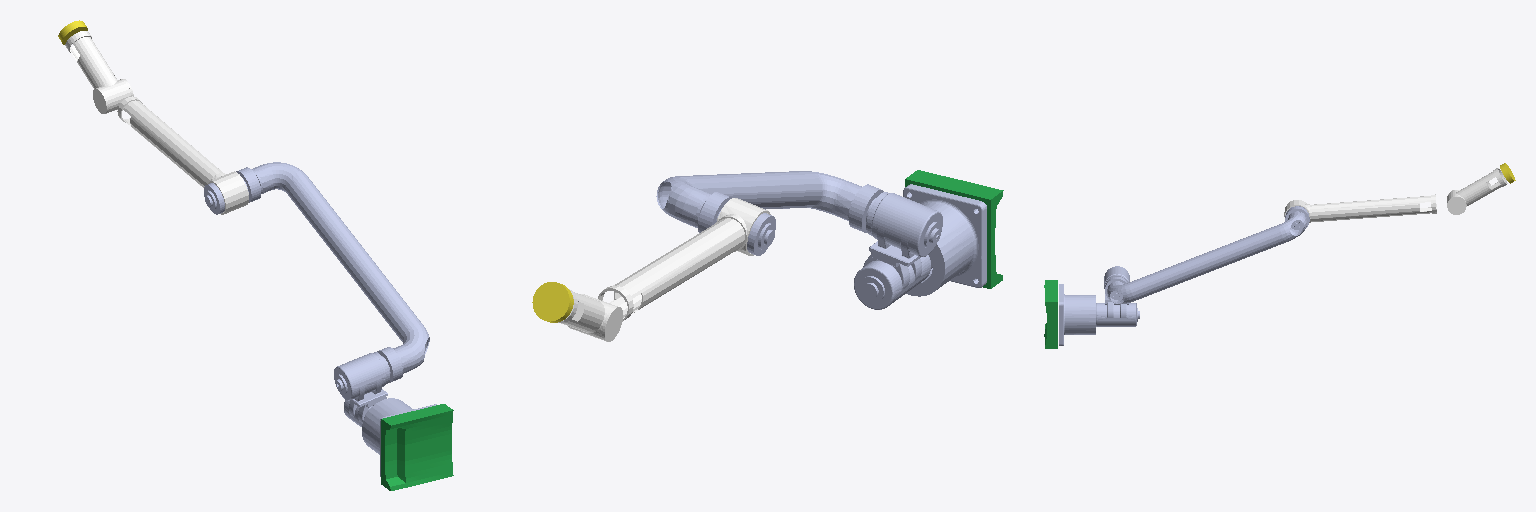
robot.urdf — station__starlink_sldasm9:
<?xml version='1.0' encoding='utf-8'?>
<robot name="station__starlink_sldasm9">
  <link name="base_link">
    <visual>
      <geometry>
        <mesh filename="../satellites/station/satellite.stl" />
      </geometry>
      <material name="satellite_grey">
        <color rgba=".6 .7 .8 1" />
      </material>
    </visual>
    <collision>
      <geometry>
        <mesh filename="../satellites/station/satellite.stl" />
      </geometry>
    </collision>
  </link>
  <link name="station_mount" />
  <joint name="satellite_mount_fixed" type="fixed">
    <parent link="base_link" />
    <child link="station_mount" />
    <origin xyz="-1.2 0.6066343669416991 0.0" rpy="-1.5707963267948966 -1.5707963267948966 0.0" />
  </joint>
  <link name="mount_support">
    <visual>
      <geometry>
        <mesh filename="../satellites/station/mount_support.stl" />
      </geometry>
      <material name="mount_green">
        <color rgba=".2 .7 .35 1" />
      </material>
    </visual>
    <collision>
      <geometry>
        <mesh filename="../satellites/station/mount_support.stl" />
      </geometry>
    </collision>
  </link>
  <joint name="support_fixed" type="fixed">
    <parent link="station_mount" />
    <child link="mount_support" />
    <origin xyz="0 0 0" rpy="0 0 0" />
  </joint>
  <joint name="arm_adapter_fixed" type="fixed">
    <parent link="station_mount" />
    <child link="starlink_space_manipulator_base_link" />
    <origin xyz="-0.008519247174263014 0.009087204933166518 0.15000000141561026" rpy="-1.5707963267948966 0 1.5707963267948966" />
  </joint>
  <link name="starlink_space_manipulator_base_link">
    <inertial>
      <origin xyz="-0.00908719924946466 0.0225428225681148 -0.00851924929637313" rpy="0 0 0" />
      <mass value="8.66024015898073" />
      <inertia ixx="0.0960303512697639" ixy="1.65511904636803E-18" ixz="6.22039820639877E-19" iyy="0.103454922260914" iyz="-9.68471289978311E-19" izz="0.0960303512697639" />
    </inertial>
    <visual>
      <origin xyz="0 0 0" rpy="0 0 0" />
      <geometry>
        <mesh filename="../arms/starlink_sldasm9/meshes/starlink_space_manipulator_base_link.STL" />
      </geometry>
      <material name="">
        <color rgba="0.792156862745098 0.819607843137255 0.933333333333333 1" />
      </material>
    </visual>
    <collision>
      <origin xyz="0 0 0" rpy="0 0 0" />
      <geometry>
        <mesh filename="../arms/starlink_sldasm9/meshes/starlink_space_manipulator_base_link.STL" />
      </geometry>
    </collision>
  </link>
  <link name="starlink_space_manipulator_Shoulder_link_1">
    <inertial>
      <origin xyz="-0.000399471745595769 -0.100006574194712 -0.17423940484461" rpy="0 0 0" />
      <mass value="5.16309216784981" />
      <inertia ixx="0.0524543852135592" ixy="0.00348154867667969" ixz="6.96526910910627E-05" iyy="0.0306595326318824" iyz="-0.00056674368052247" izz="0.0439979075615329" />
    </inertial>
    <visual>
      <origin xyz="0 0 0" rpy="0 0 0" />
      <geometry>
        <mesh filename="../arms/starlink_sldasm9/meshes/starlink_space_manipulator_Shoulder_link_1.STL" />
      </geometry>
      <material name="">
        <color rgba="0.792156862745098 0.819607843137255 0.933333333333333 1" />
      </material>
    </visual>
    <collision>
      <origin xyz="0 0 0" rpy="0 0 0" />
      <geometry>
        <mesh filename="../arms/starlink_sldasm9/meshes/starlink_space_manipulator_Shoulder_link_1.STL" />
      </geometry>
    </collision>
  </link>
  <joint name="starlink_space_manipulator_Shoulder_link_1_yaw" type="revolute">
    <origin xyz="-0.0090872 -0.065 -0.0085192" rpy="1.5708 -0.15574 3.1416" />
    <parent link="starlink_space_manipulator_base_link" />
    <child link="starlink_space_manipulator_Shoulder_link_1" />
    <axis xyz="0 0 -1" />
    <limit lower="-3.14" upper="3.14" effort="0" velocity="0" />
  </joint>
  <link name="starlink_space_manipulator_Upper_arm_Link_1">
    <inertial>
      <origin xyz="0.402106341472203 -0.696465272634528 -0.170177523085579" rpy="0 0 0" />
      <mass value="5.05309869040685" />
      <inertia ixx="0.388719013133801" ixy="0.210155896498943" ixz="9.30829370680679E-08" iyy="0.146049057575642" iyz="1.71830458004218E-07" izz="0.500677708275447" />
    </inertial>
    <visual>
      <origin xyz="0 0 0" rpy="0 0 0" />
      <geometry>
        <mesh filename="../arms/starlink_sldasm9/meshes/starlink_space_manipulator_Upper_arm_Link_1.STL" />
      </geometry>
      <material name="">
        <color rgba="0.792156862745098 0.819607843137255 0.933333333333333 1" />
      </material>
    </visual>
    <collision>
      <origin xyz="0 0 0" rpy="0 0 0" />
      <geometry>
        <mesh filename="../arms/starlink_sldasm9/meshes/starlink_space_manipulator_Upper_arm_Link_1.STL" />
      </geometry>
    </collision>
  </link>
  <joint name="starlink_space_manipulator_Upper_arm_Link_1_roll" type="revolute">
    <origin xyz="0 -0.2 -0.18" rpy="1.5708 0.90646 1.5708" />
    <parent link="starlink_space_manipulator_Shoulder_link_1" />
    <child link="starlink_space_manipulator_Upper_arm_Link_1" />
    <axis xyz="0 0 -1" />
    <limit lower="-2" upper="1.5" effort="0" velocity="0" />
  </joint>
  <link name="starlink_space_manipulator_Mid_arm_Link_1">
    <inertial>
      <origin xyz="-0.000406052776441013 0.317722269561105 0.0155331755135703" rpy="0 0 0" />
      <mass value="1.57635531881168" />
      <inertia ixx="0.133610363618846" ixy="5.33750993405138E-05" ixz="-3.60473795202962E-09" iyy="0.00502119434334708" iyz="-2.514275749911E-05" izz="0.134586018527477" />
    </inertial>
    <visual>
      <origin xyz="0 0 0" rpy="0 0 0" />
      <geometry>
        <mesh filename="../arms/starlink_sldasm9/meshes/starlink_space_manipulator_Mid_arm_Link_1.STL" />
      </geometry>
      <material name="">
        <color rgba="1 1 1 1" />
      </material>
    </visual>
    <collision>
      <origin xyz="0 0 0" rpy="0 0 0" />
      <geometry>
        <mesh filename="../arms/starlink_sldasm9/meshes/starlink_space_manipulator_Mid_arm_Link_1.STL" />
      </geometry>
    </collision>
  </link>
  <joint name="starlink_space_manipulator_Mid_arm_Link_1_roll" type="revolute">
    <origin xyz="0.599999999999673 -1.03923048454122 0" rpy="-3.14159265358979 0 0.828250280535091" />
    <parent link="starlink_space_manipulator_Upper_arm_Link_1" />
    <child link="starlink_space_manipulator_Mid_arm_Link_1" />
    <axis xyz="0 0 -1" />
    <limit lower="-3.14" upper="3.14" effort="0" velocity="0" />
  </joint>
  <link name="starlink_space_manipulator_Upper_wrist_Link_1">
    <inertial>
      <origin xyz="-0.000400003664721815 -0.201565878030355 -0.00216705855311664" rpy="0 0 0" />
      <mass value="0.994770641034713" />
      <inertia ixx="0.00165409639029414" ixy="-7.59103925411082E-06" ixz="-3.17403155320863E-06" iyy="0.00201437937768072" iyz="2.63246464091218E-06" izz="0.00159638838344539" />
    </inertial>
    <visual>
      <origin xyz="0 0 0" rpy="0 0 0" />
      <geometry>
        <mesh filename="../arms/starlink_sldasm9/meshes/starlink_space_manipulator_Upper_wrist_Link_1.STL" />
      </geometry>
      <material name="">
        <color rgba="0.792156862745098 0.819607843137255 0.933333333333333 1" />
      </material>
    </visual>
    <collision>
      <origin xyz="0 0 0" rpy="0 0 0" />
      <geometry>
        <mesh filename="../arms/starlink_sldasm9/meshes/starlink_space_manipulator_Upper_wrist_Link_1.STL" />
      </geometry>
    </collision>
  </link>
  <joint name="starlink_space_manipulator_Upper_wrist_Link_1_yaw" type="revolute">
    <origin xyz="-0.00050155183276912 0.686793643713439 0.0155010481432086" rpy="0 -0.0763876794035917 3.14159265358979" />
    <parent link="starlink_space_manipulator_Mid_arm_Link_1" />
    <child link="starlink_space_manipulator_Upper_wrist_Link_1" />
    <axis xyz="0 -1 0" />
    <limit lower="-3.14" upper="3.14" effort="0" velocity="0" />
  </joint>
  <link name="starlink_space_manipulator_Upper_wrist_Link_2">
    <inertial>
      <origin xyz="8.45304168883843E-08 0.0848318719623631 -0.00515657391755576" rpy="0 0 0" />
      <mass value="1.03716823037577" />
      <inertia ixx="0.0100970561498589" ixy="1.32295633551837E-09" ixz="-9.43675929999229E-09" iyy="0.00222325407426665" iyz="-2.08772874866187E-06" izz="0.0105840577017538" />
    </inertial>
    <visual>
      <origin xyz="0 0 0" rpy="0 0 0" />
      <geometry>
        <mesh filename="../arms/starlink_sldasm9/meshes/starlink_space_manipulator_Upper_wrist_Link_2.STL" />
      </geometry>
      <material name="">
        <color rgba="1 1 1 1" />
      </material>
    </visual>
    <collision>
      <origin xyz="0 0 0" rpy="0 0 0" />
      <geometry>
        <mesh filename="../arms/starlink_sldasm9/meshes/starlink_space_manipulator_Upper_wrist_Link_2.STL" />
      </geometry>
    </collision>
  </link>
  <joint name="starlink_space_manipulator_Upper_wrist_Link_2_roll" type="revolute">
    <origin xyz="0 -0.30020635628656 0" rpy="-0.0158640776811277 -0.0317448426184613 -2.67805461574742" />
    <parent link="starlink_space_manipulator_Upper_wrist_Link_1" />
    <child link="starlink_space_manipulator_Upper_wrist_Link_2" />
    <axis xyz="0 0 1" />
    <limit lower="-2.5" upper="1.8" effort="0" velocity="0" />
  </joint>
  <link name="starlink__space_manipulator_2F-Body_Link">
    </link>
  <joint name="starlink__space_manipulator_2F-Body_Link_yaw" type="revolute">
    <origin xyz="0 0.34845 -0.0053813" rpy="-3.1416 0.93592 0" />
    <parent link="starlink_space_manipulator_Upper_wrist_Link_2" />
    <child link="starlink__space_manipulator_2F-Body_Link" />
    <axis xyz="0 -1 0" />
    <limit lower="-3.14" upper="3.14" effort="0" velocity="0" />
  </joint>
  <link name="angular_hand">
    <visual>
      <geometry>
        <mesh filename="../arms/starlink_sldasm9/meshes/hand_2finger.STL" scale="2 2 2" />
      </geometry>
    </visual>
    <collision>
      <geometry>
        <mesh filename="../arms/starlink_sldasm9/meshes/hand_2finger.STL" scale="2 2 2" />
      </geometry>
    </collision>
  </link>
  <joint name="angular_hand_fixed" type="fixed">
    <parent link="starlink__space_manipulator_2F-Body_Link" />
    <child link="angular_hand" />
    <origin xyz="0 -0.036 0" rpy="-1.5707963267948966 0 0" />
  </joint>
  <link name="angular_adapter">
    <visual>
      <geometry>
        <mesh filename="../arms/starlink_sldasm9/meshes/angular_adapter.stl" />
      </geometry>
    </visual>
    <collision>
      <geometry>
        <mesh filename="../arms/starlink_sldasm9/meshes/angular_adapter.stl" />
      </geometry>
    </collision>
  </link>
  <joint name="angular_adapter_fixed" type="fixed">
    <parent link="starlink__space_manipulator_2F-Body_Link" />
    <child link="angular_adapter" />
    <origin xyz="0 -0.0005 0" rpy="1.5707963267948966 0 0" />
  </joint>
  <link name="angular_finger_1">
    <visual>
      <geometry>
        <mesh filename="../arms/starlink_sldasm9/meshes/finger_proximal.STL" scale="2 2 2" />
      </geometry>
    </visual>
    <collision>
      <geometry>
        <mesh filename="../arms/starlink_sldasm9/meshes/finger_proximal.STL" scale="2 2 2" />
      </geometry>
    </collision>
  </link>
  <link name="angular_tip_1">
    <visual>
      <geometry>
        <mesh filename="../arms/starlink_sldasm9/meshes/finger_distal.STL" scale="2 2 2" />
      </geometry>
    </visual>
    <collision>
      <geometry>
        <mesh filename="../arms/starlink_sldasm9/meshes/finger_distal.STL" scale="2 2 2" />
      </geometry>
    </collision>
  </link>
  <joint name="angular_joint_1" type="revolute">
    <parent link="angular_hand" />
    <child link="angular_finger_1" />
    <axis xyz="0 0 1" />
    <origin xyz="-0.005 0.0619 -0.22964" rpy="-1.570796327 .649262481663582 1.5707963267948966" />
    <limit lower="0" upper="1.51" effort="2" velocity="1" />
  </joint>
  <joint name="angular_joint_tip_1" type="revolute">
    <parent link="angular_finger_1" />
    <child link="angular_tip_1" />
    <axis xyz="0 0 1" />
    <origin xyz="0.088 -0.006 0.0" rpy="0 0 0" />
    <limit lower="0" upper="2" effort="2" velocity="1" />
  </joint>
  <link name="angular_finger_2">
    <visual>
      <geometry>
        <mesh filename="../arms/starlink_sldasm9/meshes/finger_proximal.STL" scale="2 2 2" />
      </geometry>
    </visual>
    <collision>
      <geometry>
        <mesh filename="../arms/starlink_sldasm9/meshes/finger_proximal.STL" scale="2 2 2" />
      </geometry>
    </collision>
  </link>
  <link name="angular_tip_2">
    <visual>
      <geometry>
        <mesh filename="../arms/starlink_sldasm9/meshes/finger_distal.STL" scale="2 2 2" />
      </geometry>
    </visual>
    <collision>
      <geometry>
        <mesh filename="../arms/starlink_sldasm9/meshes/finger_distal.STL" scale="2 2 2" />
      </geometry>
    </collision>
  </link>
  <joint name="angular_joint_2" type="revolute">
    <parent link="angular_hand" />
    <child link="angular_finger_2" />
    <axis xyz="0 0 1" />
    <origin xyz="-0.005 -0.0619 -0.22964" rpy="-1.570796327 .649262481663582 -1.5707963267948966" />
    <limit lower="0" upper="1.51" effort="2" velocity="1" />
  </joint>
  <joint name="angular_joint_tip_2" type="revolute">
    <parent link="angular_finger_2" />
    <child link="angular_tip_2" />
    <axis xyz="0 0 1" />
    <origin xyz="0.088 -0.006 0.0" rpy="0 0 0" />
    <limit lower="0" upper="2" effort="2" velocity="1" />
  </joint>
  <link name="angular_tcp" />
  <joint name="angular_tcp_fixed" type="fixed">
    <parent link="angular_hand" />
    <child link="angular_tcp" />
    <origin xyz="-0.005 0 -0.34" rpy="3.141592653589793 0 0" />
  </joint>
</robot>

--- What the picture shows (computed from the rendered views, not written in the file) ---
Views: 3 orthographic renders of the robot side by side, from view 1: azimuth 30°, elevation 25°; view 2: azimuth 150°, elevation 25°; view 3: azimuth 270°, elevation 25°.
Robot: station__starlink_sldasm9 — 17 links, 16 joints (10 revolute, 6 fixed); root link base_link; default pose: all joints at 0.
Visible links, largest first — view 1: starlink_space_manipulator_Upper_arm_Link_1, mount_support, starlink_space_manipulator_Mid_arm_Link_1, starlink_space_manipulator_Shoulder_link_1, starlink_space_manipulator_Upper_wrist_Link_2, starlink_space_manipulator_base_link; view 2: starlink_space_manipulator_Upper_arm_Link_1, starlink_space_manipulator_Shoulder_link_1, starlink_space_manipulator_Mid_arm_Link_1, starlink_space_manipulator_base_link, mount_support, starlink_space_manipulator_Upper_wrist_Link_2, angular_adapter; view 3: starlink_space_manipulator_Upper_arm_Link_1, starlink_space_manipulator_Mid_arm_Link_1, starlink_space_manipulator_base_link, starlink_space_manipulator_Shoulder_link_1, starlink_space_manipulator_Upper_wrist_Link_2, mount_support.
Link boxes in pixels (x1,y1,x2,y2): starlink_space_manipulator_Upper_arm_Link_1: [204, 162, 429, 386]; mount_support: [381, 404, 453, 490]; starlink_space_manipulator_Mid_arm_Link_1: [117, 96, 248, 214]; starlink_space_manipulator_Shoulder_link_1: [334, 347, 402, 426]; starlink_space_manipulator_Upper_wrist_Link_2: [65, 31, 133, 113]; starlink_space_manipulator_base_link: [362, 398, 436, 476]; starlink_space_manipulator_Upper_arm_Link_1: [656, 171, 938, 255]; starlink_space_manipulator_Shoulder_link_1: [848, 184, 942, 309]; starlink_space_manipulator_Mid_arm_Link_1: [598, 198, 770, 320]; starlink_space_manipulator_base_link: [903, 184, 986, 296]; mount_support: [905, 170, 1003, 288]; starlink_space_manipulator_Upper_wrist_Link_2: [558, 289, 622, 341]; angular_adapter: [532, 282, 573, 322]; starlink_space_manipulator_Upper_arm_Link_1: [1107, 206, 1309, 303]; starlink_space_manipulator_Mid_arm_Link_1: [1284, 194, 1436, 222]; starlink_space_manipulator_base_link: [1059, 284, 1095, 345]; starlink_space_manipulator_Shoulder_link_1: [1096, 266, 1139, 326]; starlink_space_manipulator_Upper_wrist_Link_2: [1447, 168, 1507, 214]; mount_support: [1044, 280, 1057, 348].
Size in the robot's own frame: 0.5238 by 2.91 by 1.13 metres.
7 mesh visuals loaded from 12 distinct referenced files (7 binary STL); not drawn: 7 (reference not matched to a file when rendering).
